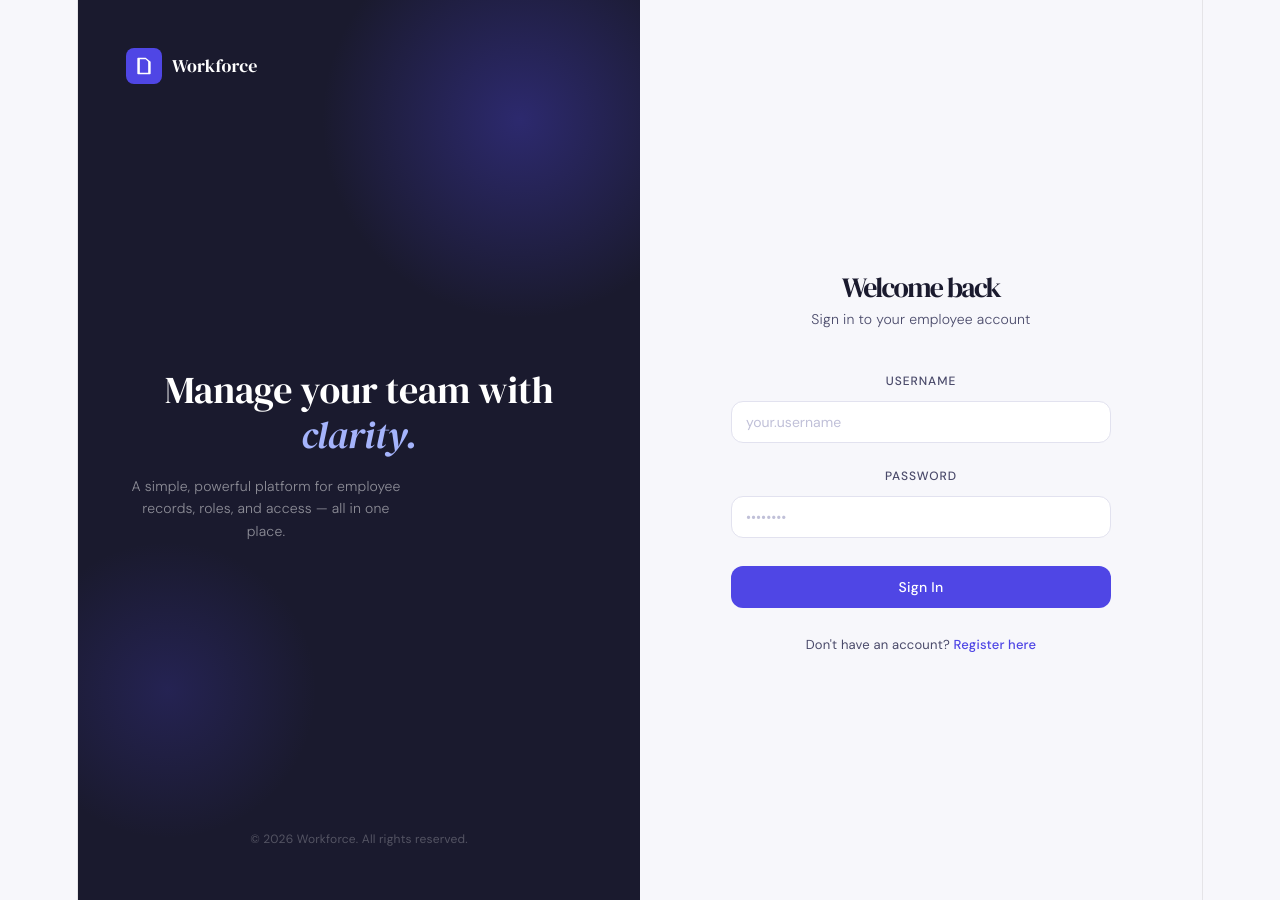
Scenario: Login Page › shows a generic fallback error when the API response has no message
The image size is (1280, 900).
Type "user" into the field labelled "Username".
click(921, 422); type("user")  # box [731,401,1111,443]
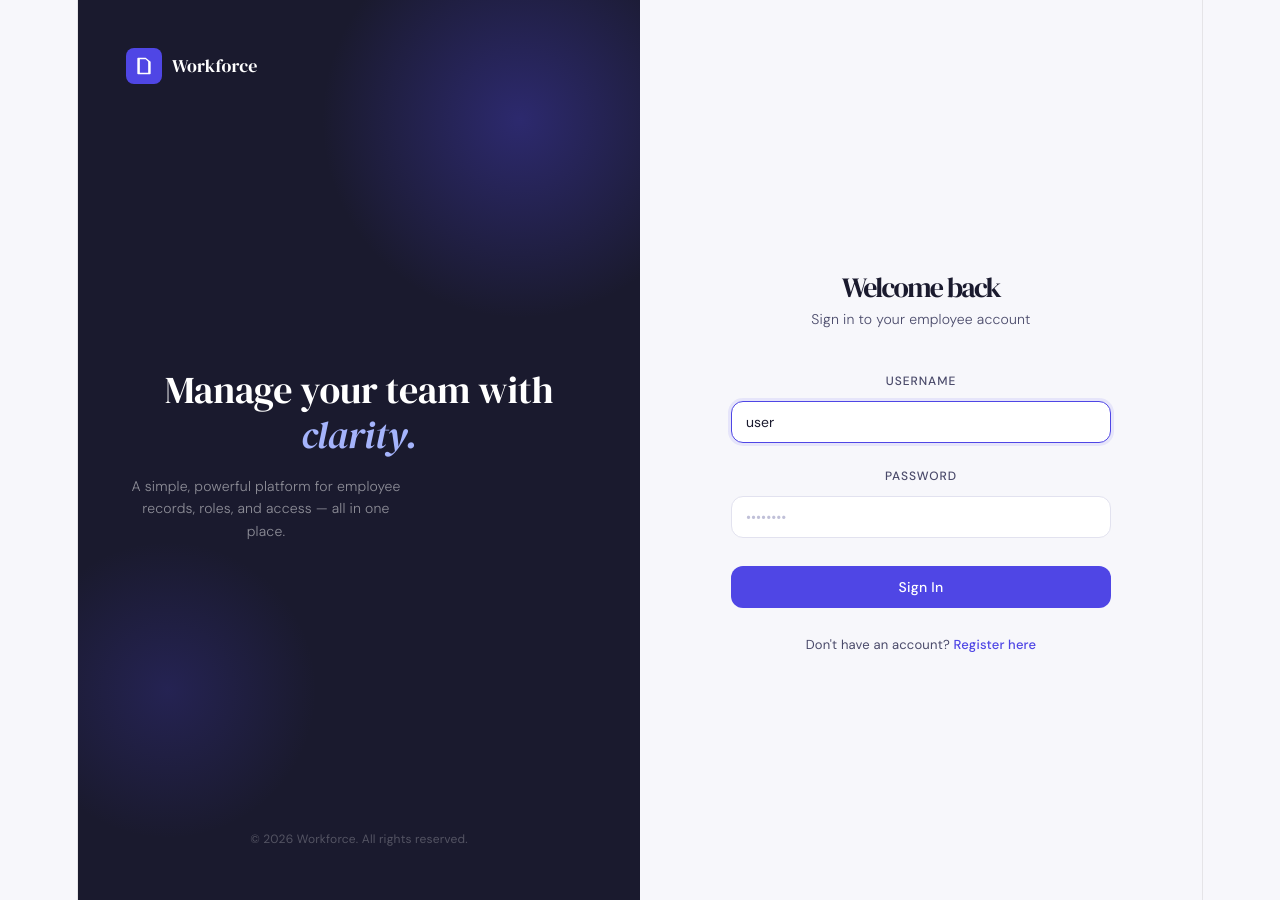
Type "somepassword" into the password field labelled "Password".
click(921, 517); type("somepassword")  # box [731,496,1111,538]
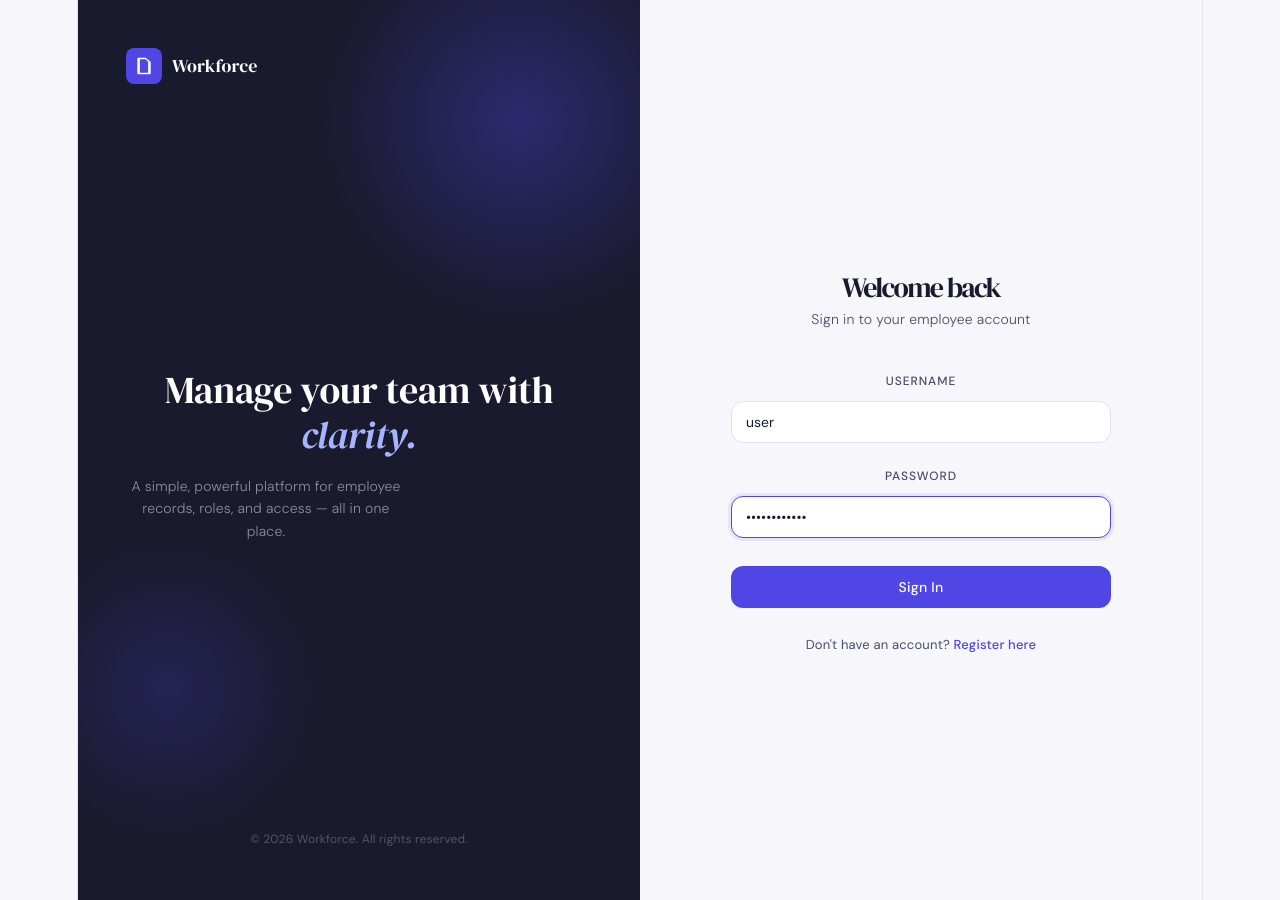
Click the button "Sign In".
click(921, 587)  # box [731,566,1111,608]
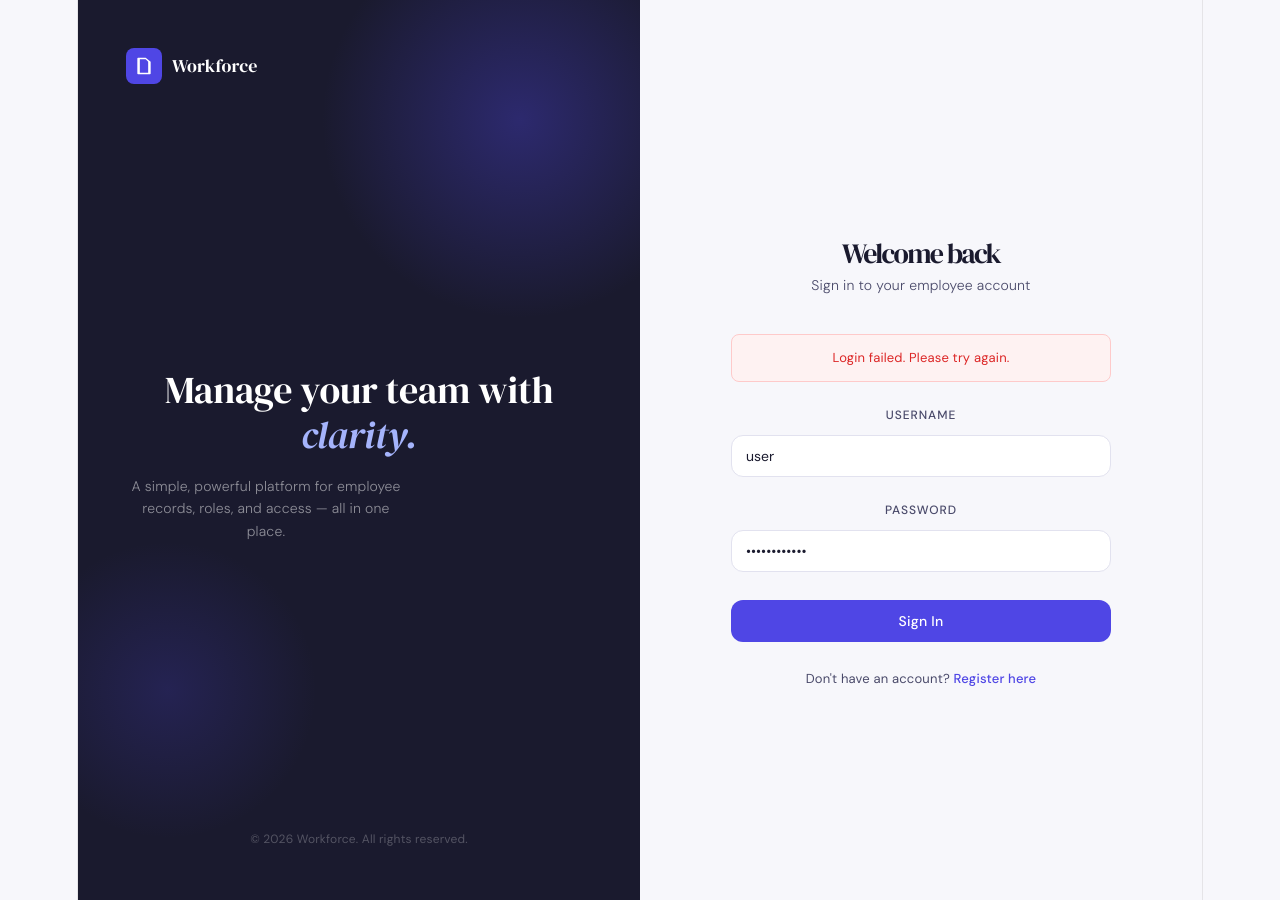
Now the text "Login failed. Please try again." is shown, box [731,334,1111,382]
